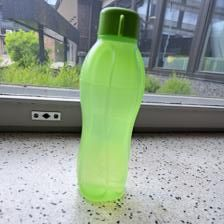bottle: (72, 7, 150, 205)
